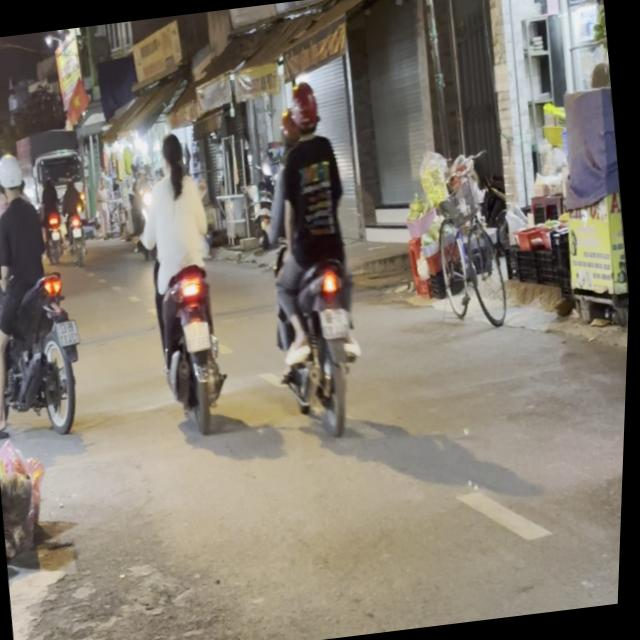helmet: (285, 76, 326, 138), (0, 150, 29, 199)
licenseplate: (243, 71, 385, 441), (126, 121, 246, 436), (0, 142, 100, 441)
motorcyclist: (159, 128, 191, 179)
nohelmet: (322, 305, 354, 338), (186, 319, 214, 350), (56, 318, 83, 346)
